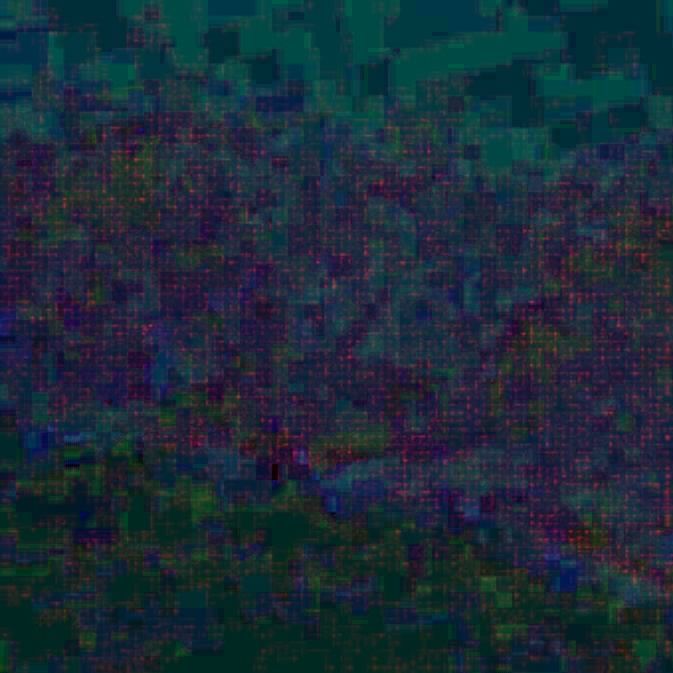rip_current: (230, 131, 533, 466)
